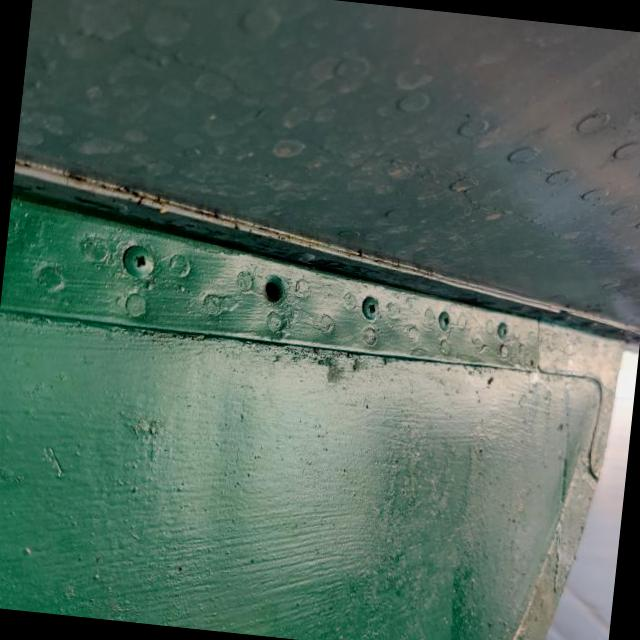Missing Fastener: (258, 274, 288, 308)
